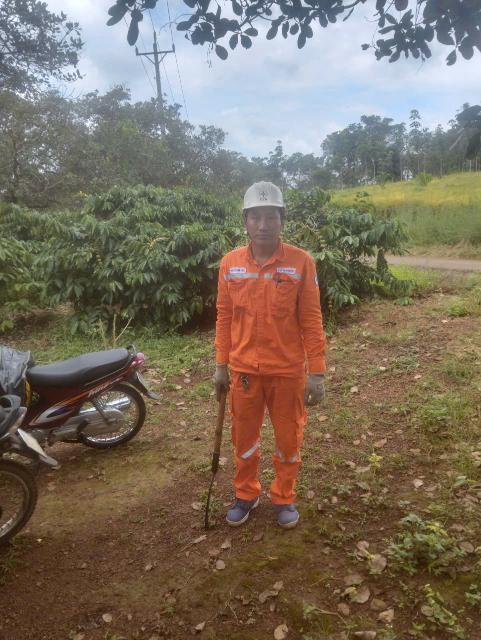gloves: (203, 358, 234, 403), (306, 368, 334, 410)
helmet: (233, 167, 294, 217)
shoes: (211, 487, 270, 529), (269, 491, 306, 531)
